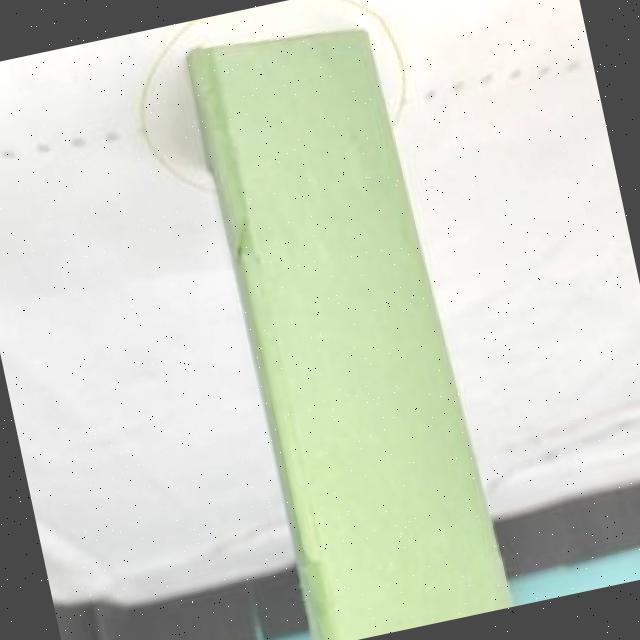greenbox: (180, 10, 518, 640)
